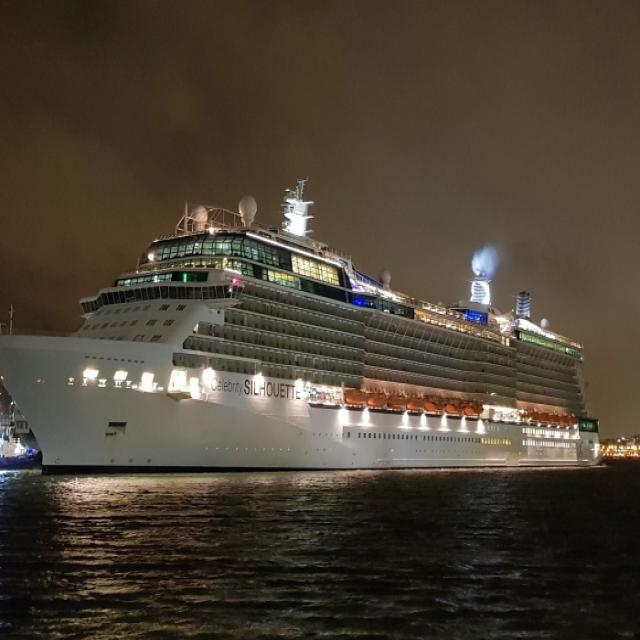cruises: (1, 175, 616, 481)
